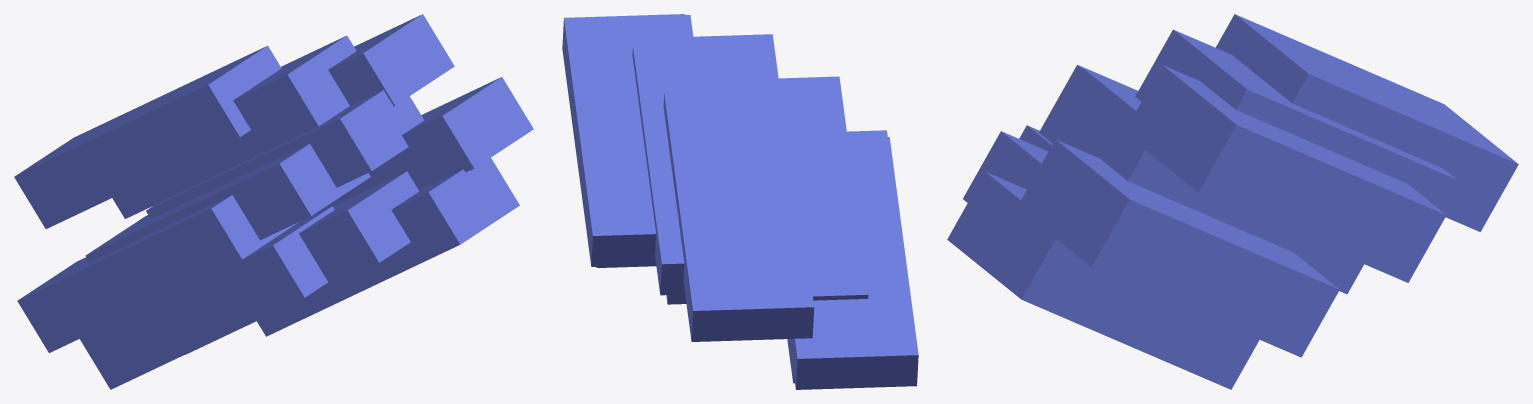
Rendered from BLUE.glb.
The picture shows the model from 3 angles, left to right: view 1: azimuth 30°, elevation 25°; view 2: azimuth 150°, elevation 25°; view 3: azimuth 270°, elevation 25°; orthographic projection. The views are drawn at different scales.
Visible parts, largest first — view 1: Instance Child on Parent; view 2: Instance Child on Parent; view 3: Instance Child on Parent.
Part boxes in pixels (left/top/right/bottom): Instance Child on Parent: left=14, top=14, right=533, bottom=389; Instance Child on Parent: left=562, top=14, right=918, bottom=389; Instance Child on Parent: left=947, top=14, right=1518, bottom=389.
Bounding box in the file's own units: 19.37 × 12.61 × 17.62.
